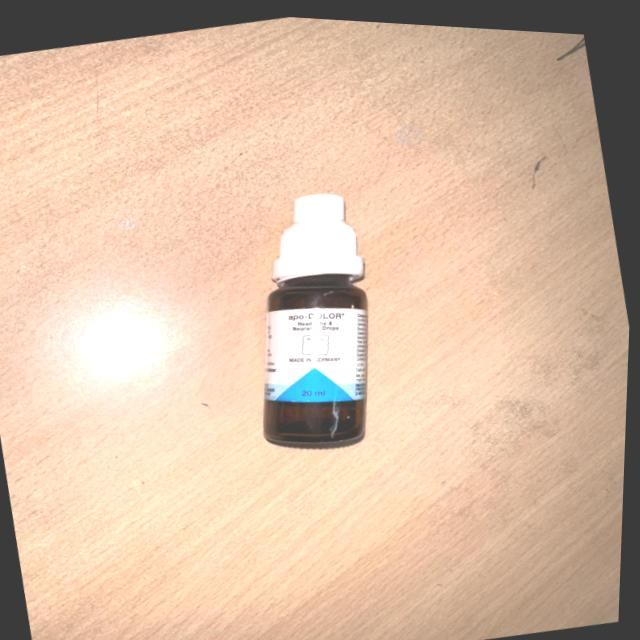medicine: (255, 177, 386, 446)
